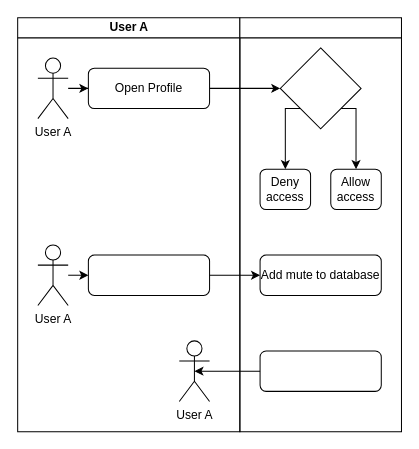
The diagram is 419 pixels wide and 449 high, and some of its shapes have lost their labels. Here are the shapes that lost their labels. From the top down, the box of each, then its label:
(279, 47, 361, 129): Muted?
(239, 17, 401, 432): Backend
(87, 254, 210, 295): Mute User
(259, 350, 381, 391): Hide Statuses of user B
